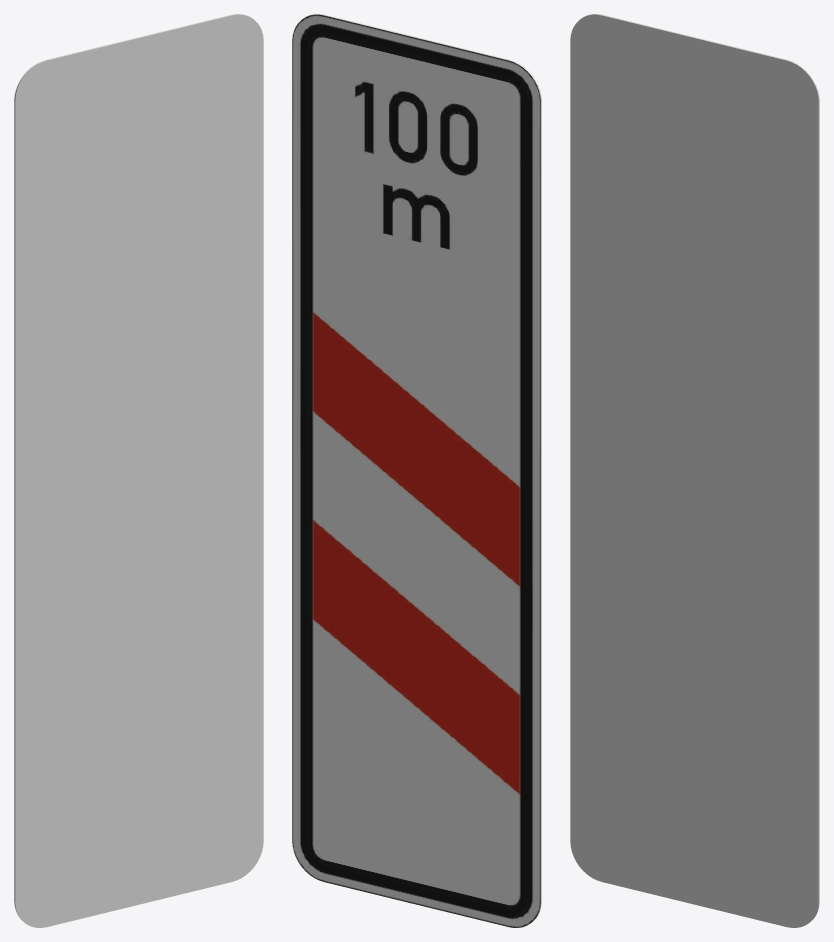
3 views of the same model, side by side, from view 1: azimuth 30°, elevation 25°; view 2: azimuth 150°, elevation 25°; view 3: azimuth 330°, elevation 25° (orthographic).
Parts seen in each view (by area): view 1: Plane; view 2: Plane; view 3: Plane.
Boxes of the visible parts, box(x1,y1,x2,y2) form: Plane: box(14, 14, 263, 927); Plane: box(292, 14, 541, 927); Plane: box(570, 14, 819, 927).
Bounding box in the file's own units: 0.3 × 1 × 0.002.
2 materials, 1 textured.
